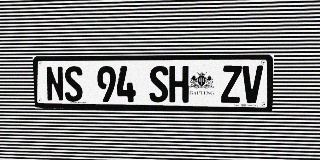4: (116, 66, 136, 102)
9: (97, 66, 116, 102)
H: (169, 66, 189, 103)
N: (45, 66, 64, 102)
S: (64, 66, 83, 102), (149, 66, 168, 102)
V: (242, 65, 263, 103)
Z: (221, 66, 242, 103)
